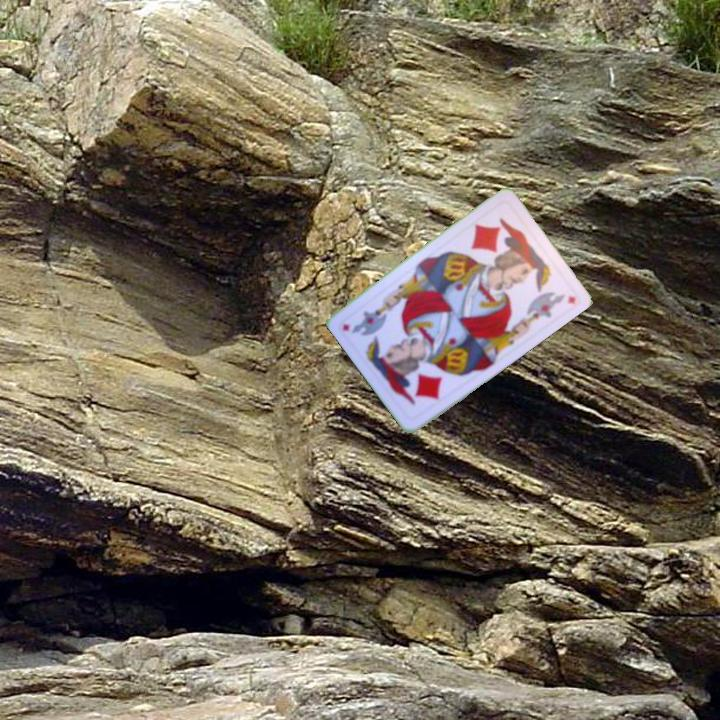d_j.png: (373, 338, 457, 424), (460, 198, 544, 284)
